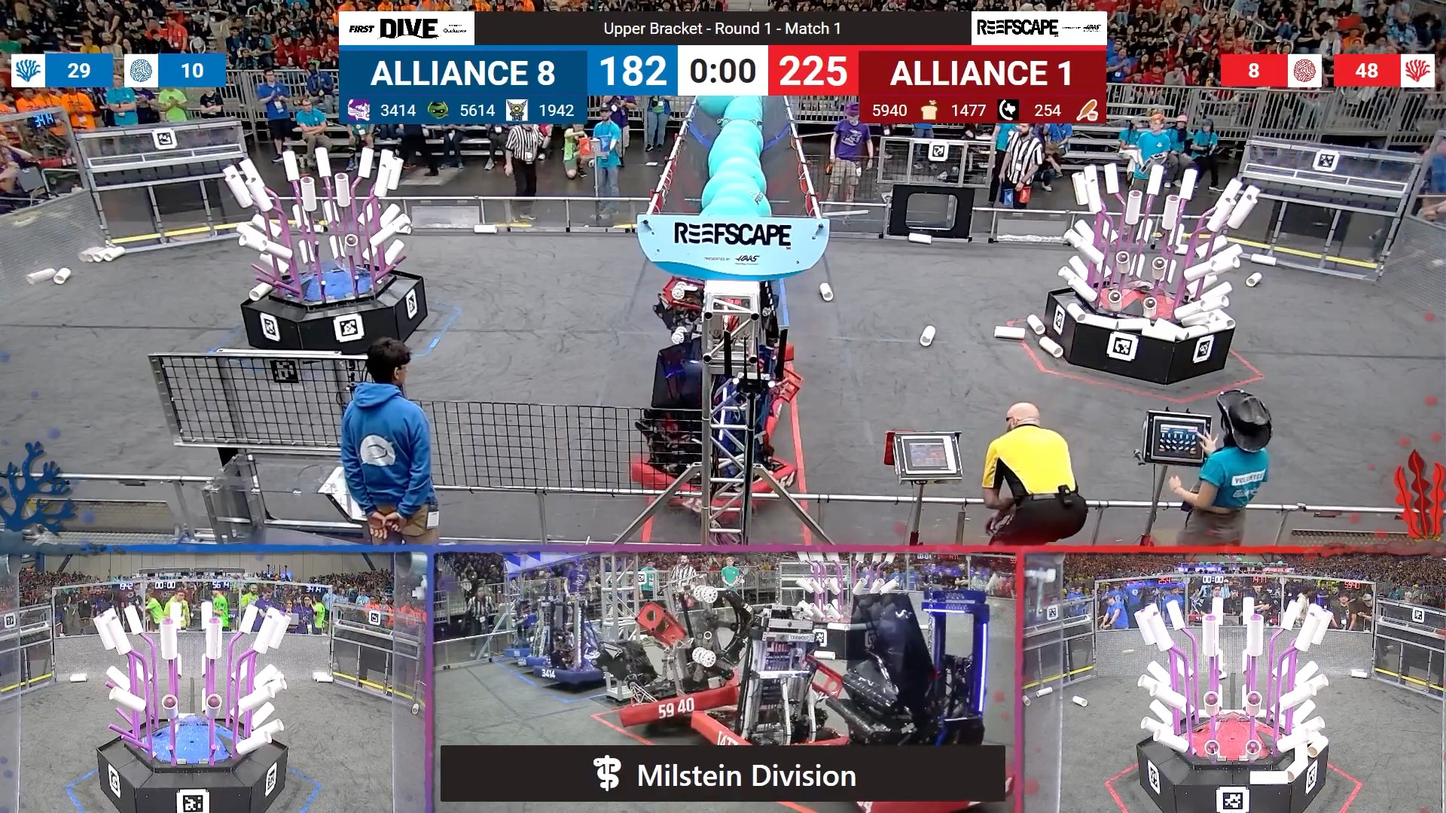bumpers: (628, 449, 795, 521), (690, 697, 849, 748), (620, 674, 743, 724), (514, 659, 622, 688), (510, 653, 565, 669)
